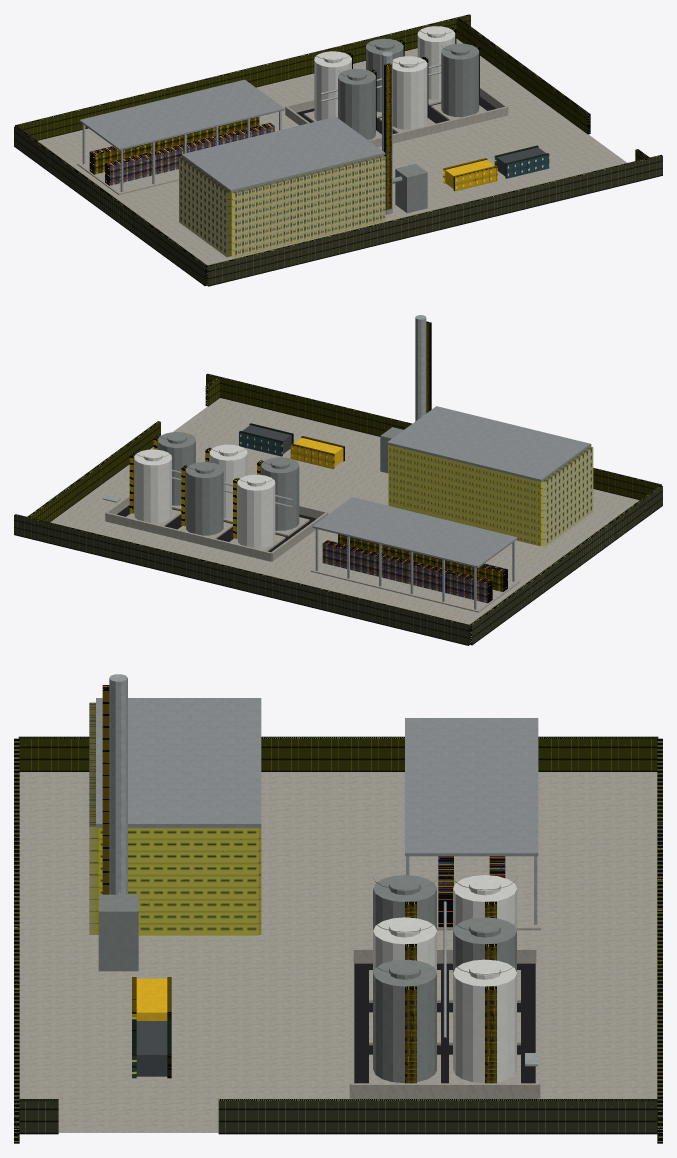
The model's file is hazardous_waste.glb.
The picture shows the model from 3 angles, top to bottom: view 1: azimuth 30°, elevation 25°; view 2: azimuth 150°, elevation 25°; view 3: azimuth 270°, elevation 25°; orthographic projection. The views are drawn at different scales.
Visible parts, largest first — view 1: hazardous_waste; view 2: hazardous_waste; view 3: hazardous_waste.
Boxes of the visible parts, left/top/right/bottom form: hazardous_waste: left=14, top=14, right=662, bottom=286; hazardous_waste: left=14, top=315, right=662, bottom=645; hazardous_waste: left=14, top=674, right=662, bottom=1143.
Bounding box in the file's own units: 66.34 × 22 × 48.68.
19 materials, 19 textured.
